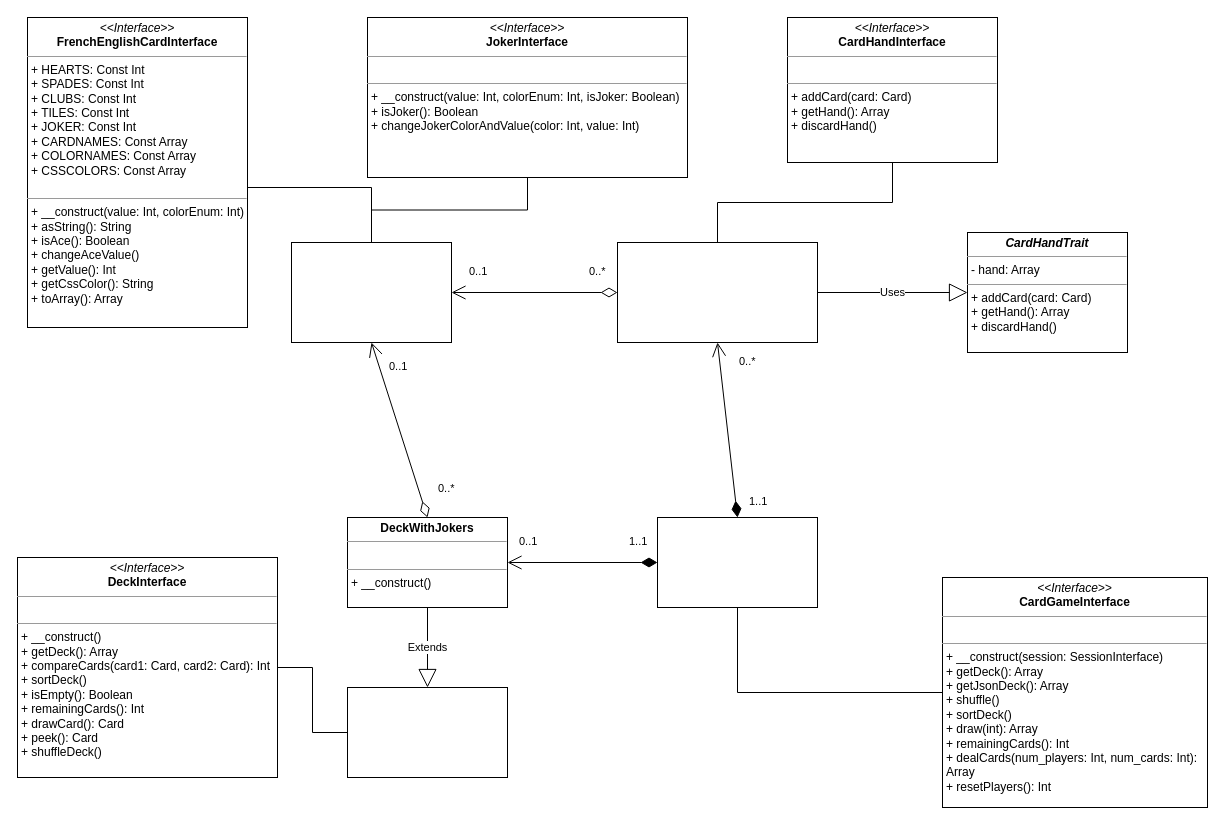
Image size: 1225x825. Some labels were removed from this diagram. Here are the shapes that lost their labels. From the top down, the centre of each, then its label:
At point 371,292: "Card - value: Int - color: Int - joker: Boolean".
At point 717,292: "Player - name: String + __construct (playerName: String) + getName (): String".
At point 737,562: "CardGame - deck: Deck - session: SessionInterface".
At point 427,732: "Deck - deck: Array<Card> - addCardsToDeck (color: Int)".
